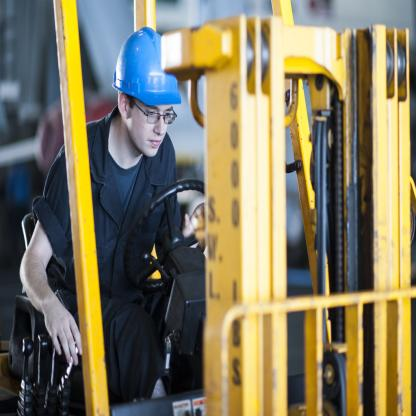Helmet: (112, 30, 170, 112)
